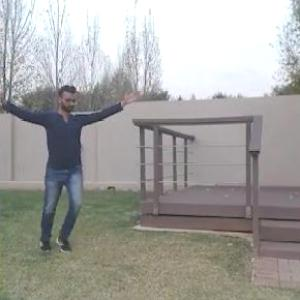takeoff: (1, 84, 148, 248)
